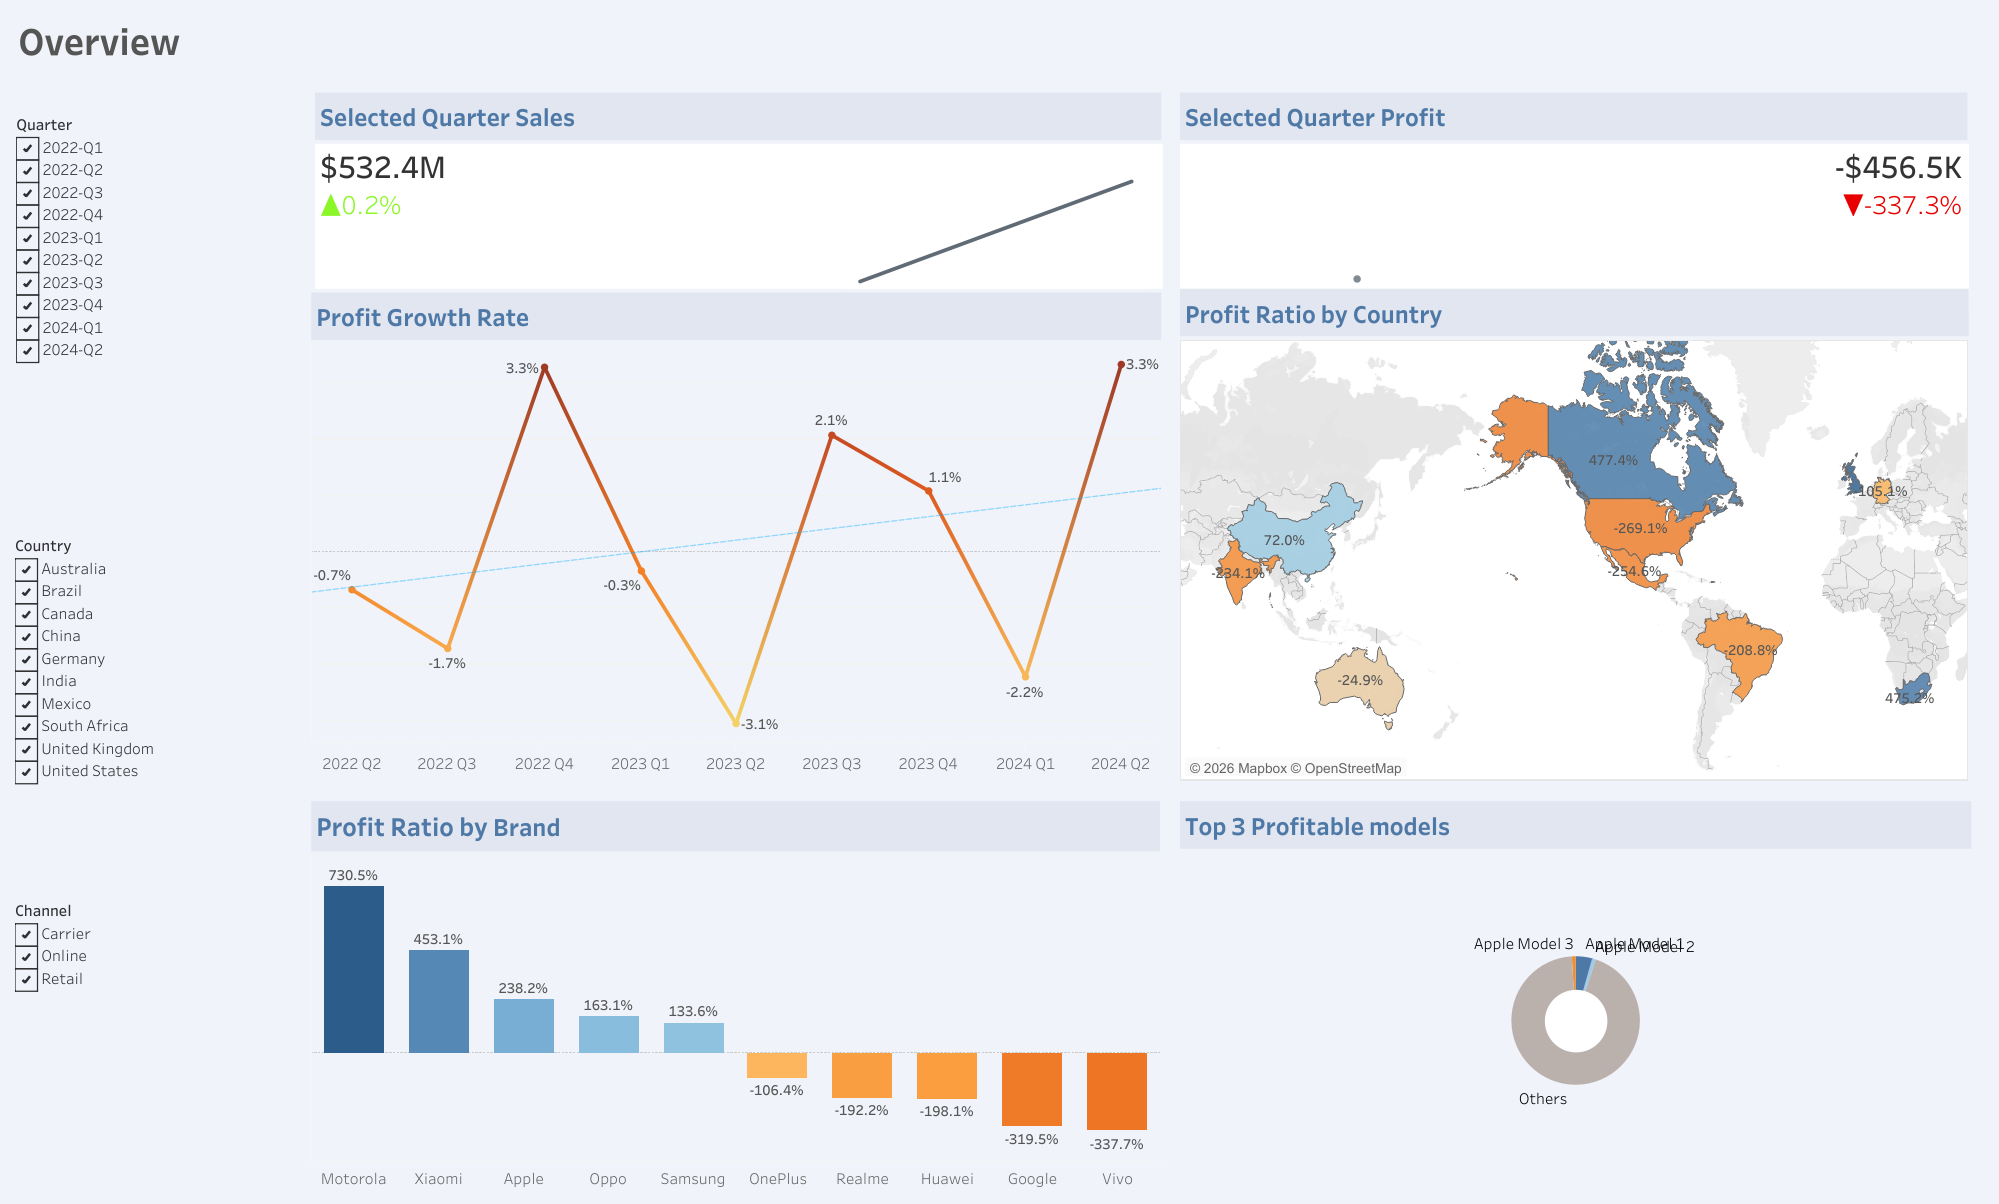

Layout of this report page (visuals, bound fields, positions):
{"tool":"tableau","page":{"name":"1. Overview","canvas":[1000,1000],"units":"permille","ordinal":0},"visuals":[{"type":"title","box":[4.8,10,990.3,72.4]},{"type":"worksheet","title":"Sales by Qt","mark":"Automatic","box":[157.3,77.2,423.2,184.3]},{"type":"worksheet","title":"Profit by Qt","mark":"Automatic","box":[590,77.2,393.5,194.6]},{"type":"filter","title":"Profit Ratio/Brand","param":"[federated.133nf490kqtoen14o6drk1ew0xuc].[none:Quarter:nk]","box":[7.9,92.4,130.4,352.1]},{"type":"worksheet","title":"Profit Line","mark":"Automatic","rows":["Qt Sales line (copy)_542120814065831973"],"cols":["Calculation_542120814019948556"],"box":[596.9,143.2,162.6,93.7]},{"type":"worksheet","title":"Sales Line","mark":"Automatic","rows":["Calculation_542120814062829604"],"cols":["Calculation_542120814019948556"],"box":[421.6,144.2,151.5,94.8]},{"type":"worksheet","title":"ProfitRatio/Country (map)","mark":"Automatic","box":[590.2,240,394.1,408.9]},{"type":"worksheet","title":"Profir Ratio/Time","mark":"Automatic","rows":["Profit (copy)_542120814082756648"],"cols":["Date"],"box":[155.9,242.5,424.6,405.3]},{"type":"filter","title":"Sales by Qt","param":"[federated.133nf490kqtoen14o6drk1ew0xuc].[none:Country:nk]","box":[4.8,451.9,133.4,364.6]},{"type":"worksheet","title":"Profit Ratio/Brand","mark":"Bar","rows":["Calculation_542120814036348963"],"cols":["Brand"],"box":[155.9,665.1,423.9,321]},{"type":"worksheet","title":"ProfitRatioDonut","mark":"Automatic","rows":["Calculation_1382886569850322945","Calculation_1382886569850322945"],"box":[590.2,665.3,395.3,320.3]},{"type":"filter","title":"ProfitRatioDonut","param":"[federated.133nf490kqtoen14o6drk1ew0xuc].[none:Channel:nk]","box":[4.8,816.5,133.4,159.8]}]}

Visuals, with their boxes on the dashboard's canvas, which has no fixed pixel size, in thousandths of its width and height (x1, y1, x2, y2). These are canvas units, not pixel positions in the 1999x1204 screenshot, which may show the page scaled, cropped or inside an application window:
title: bbox(5, 10, 995, 82)
"Sales by Qt" worksheet: bbox(157, 77, 580, 262)
"Profit by Qt" worksheet: bbox(590, 77, 984, 272)
"Profit Ratio/Brand" filter: bbox(8, 92, 138, 444)
"Profit Line" worksheet: bbox(597, 143, 760, 237)
"Sales Line" worksheet: bbox(422, 144, 573, 239)
"ProfitRatio/Country (map)" worksheet: bbox(590, 240, 984, 649)
"Profir Ratio/Time" worksheet: bbox(156, 242, 580, 648)
"Sales by Qt" filter: bbox(5, 452, 138, 816)
"Profit Ratio/Brand" worksheet (Bar marks): bbox(156, 665, 580, 986)
"ProfitRatioDonut" worksheet: bbox(590, 665, 986, 986)
"ProfitRatioDonut" filter: bbox(5, 816, 138, 976)
